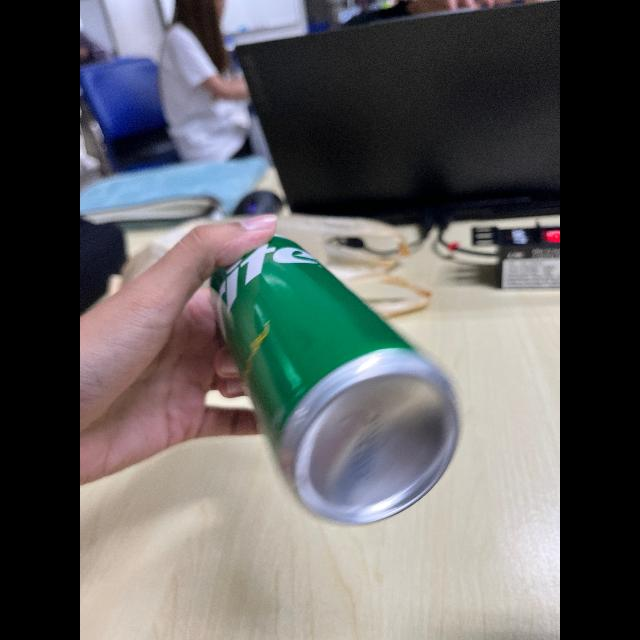can: (202, 212, 466, 538)
